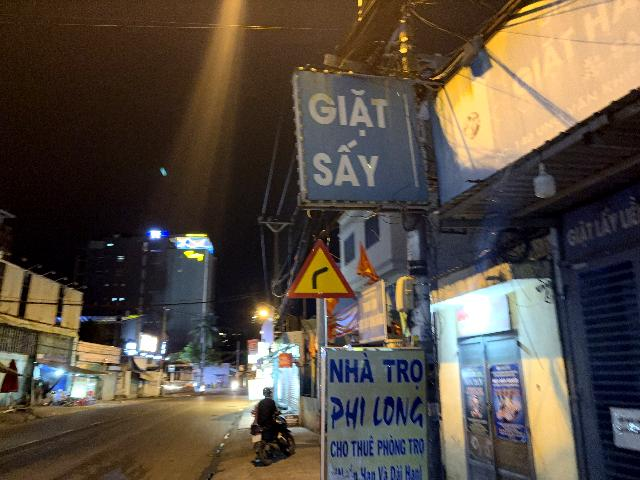cho-ngoat-nguy-hiem-ben-phai: (286, 238, 357, 299)
